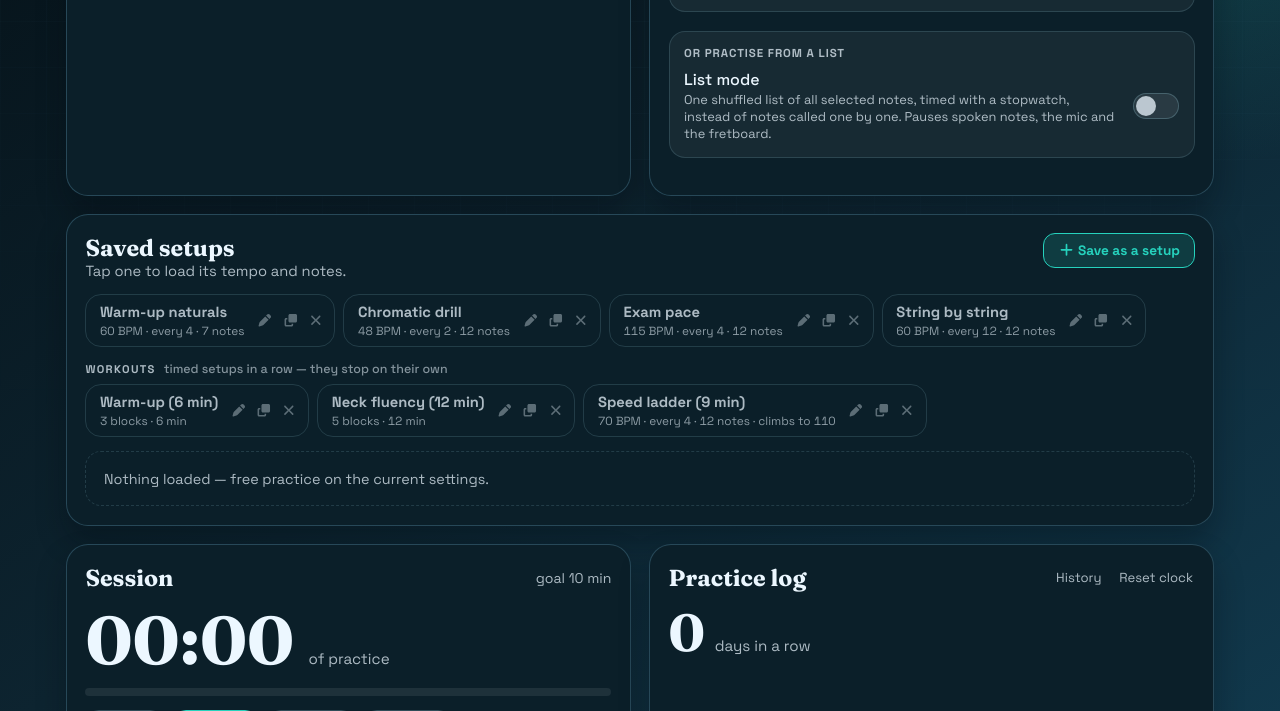
Routines › clears from the card header and from the hero strip
The width and height of the screenshot is (1280, 711).
(page scrolled)
Step 1. Click the button "Warm-up naturals 60 BPM · every 4 · 7 notes" → (169, 320), box [86,295,251,346]
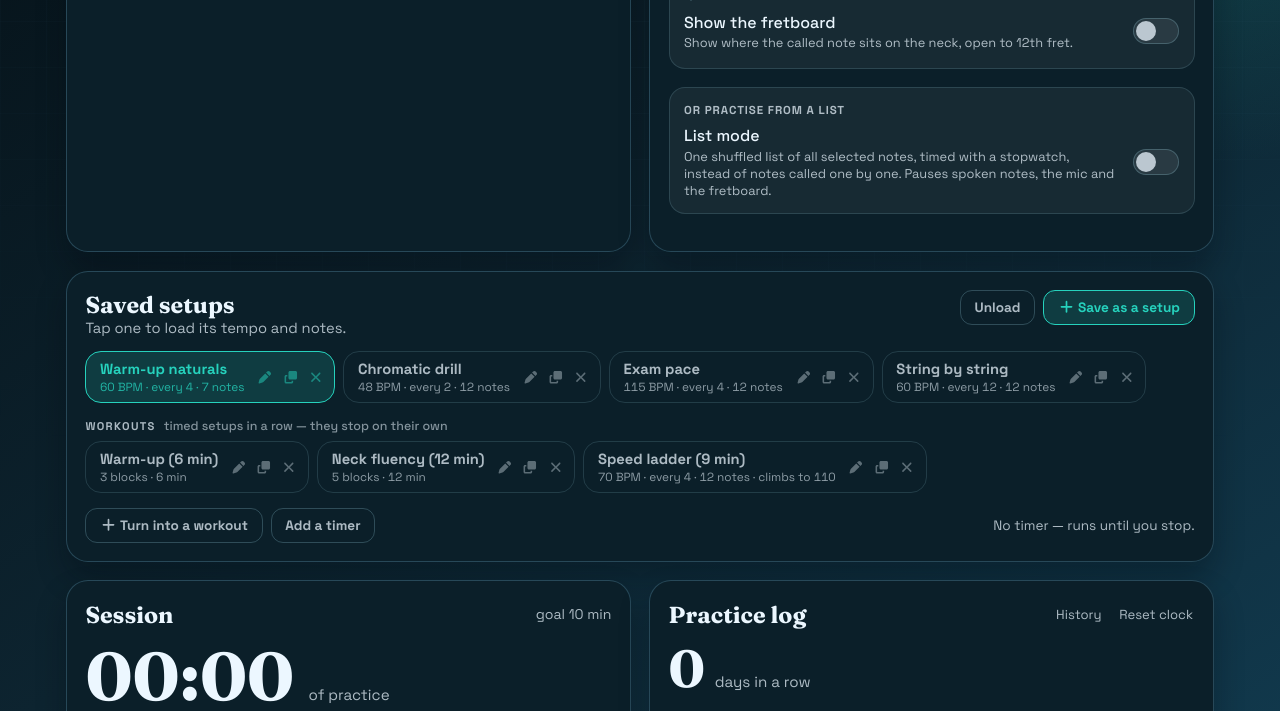
Step 2. Click the button with test id "routine-clear" → (998, 308), box [960,290,1035,325]
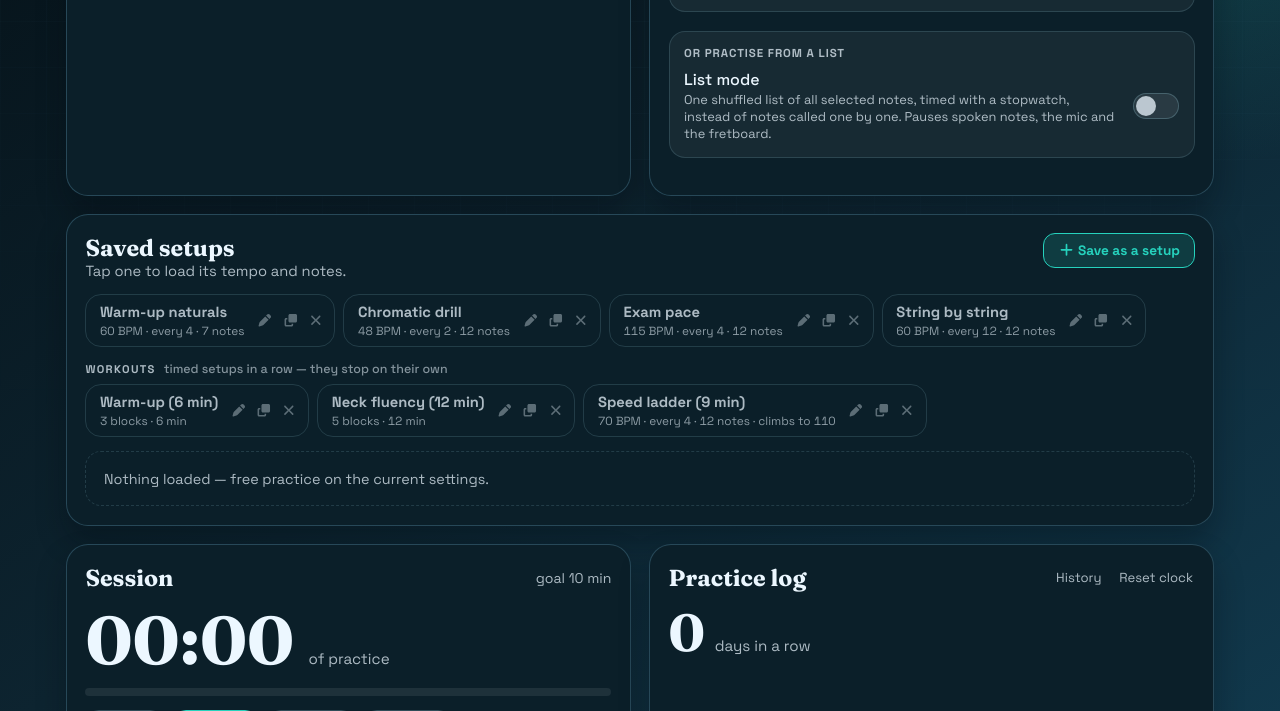
Check: the text "Nothing loaded — free practice on the current settings." is shown, box [85,451,1195,506]
Step 3. Click the button "Warm-up naturals 60 BPM · every 4 · 7 notes" → (169, 320), box [86,295,251,346]
(page scrolled)
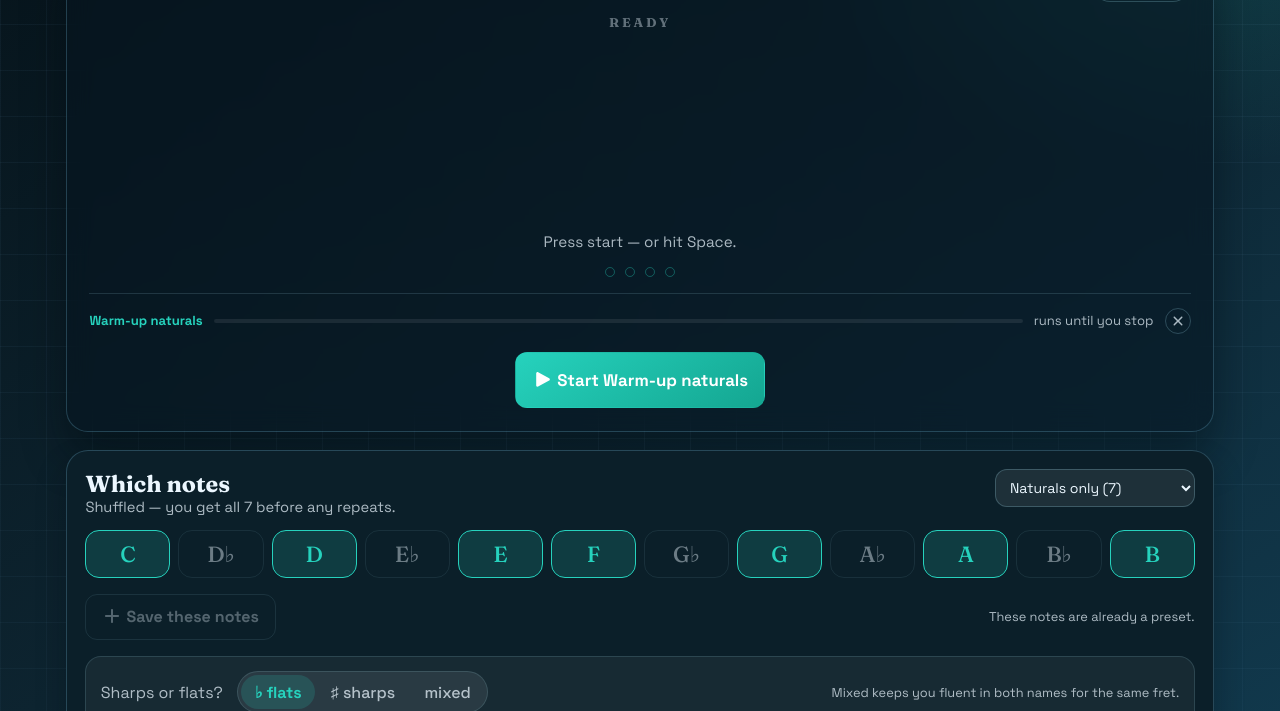
Step 4. Click the button with test id "routine-strip-clear" → (1178, 321), box [1165,308,1191,334]
(page scrolled)
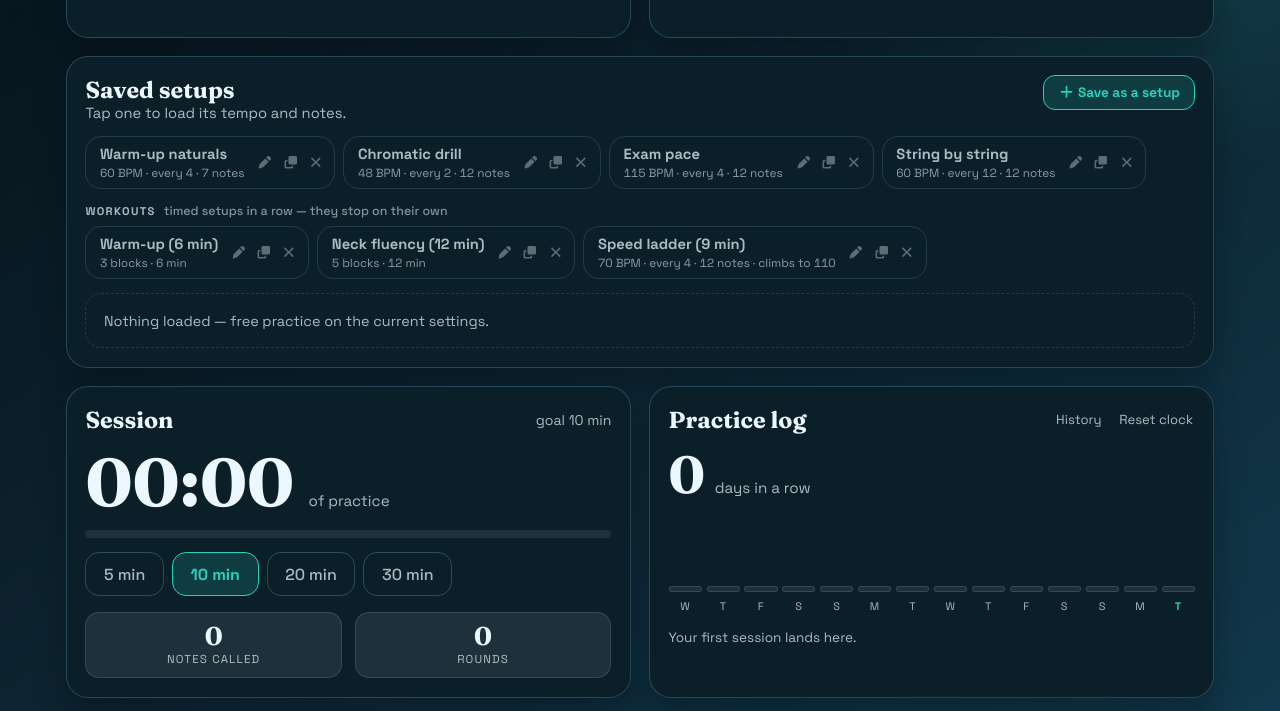
Check: the text "Nothing loaded — free practice on the current settings." is shown, box [85,293,1195,348]
